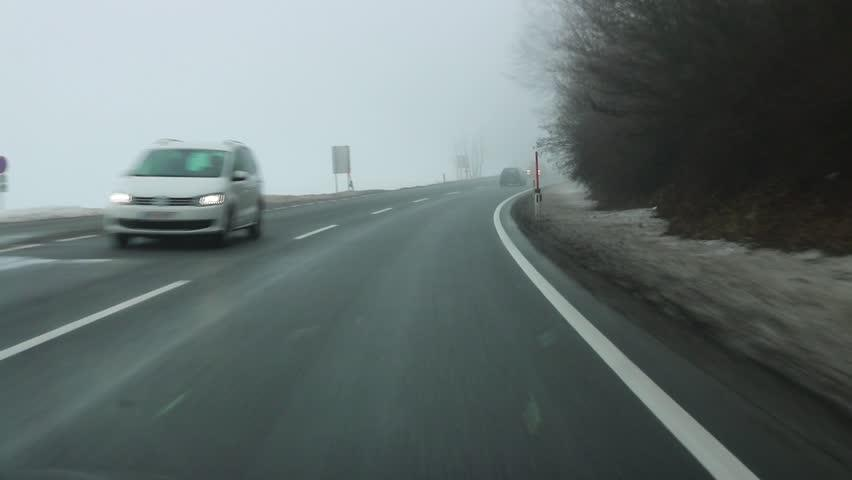car: (98, 135, 266, 251), (498, 166, 528, 187)
